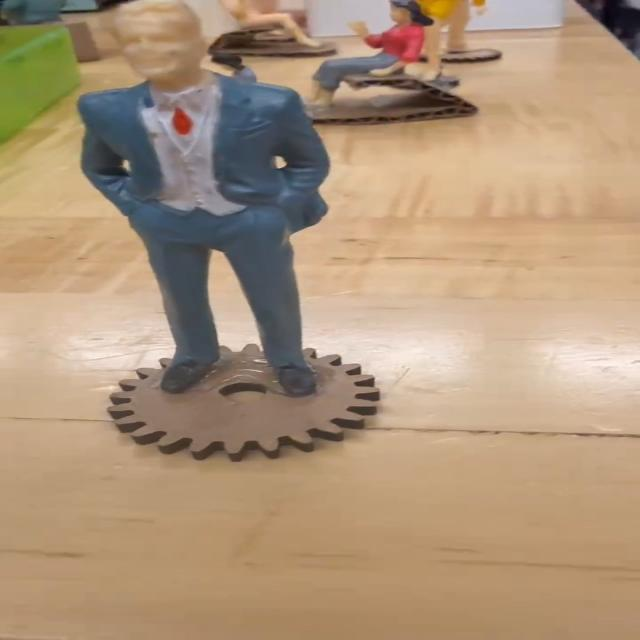Authorized: (49, 0, 437, 571)
